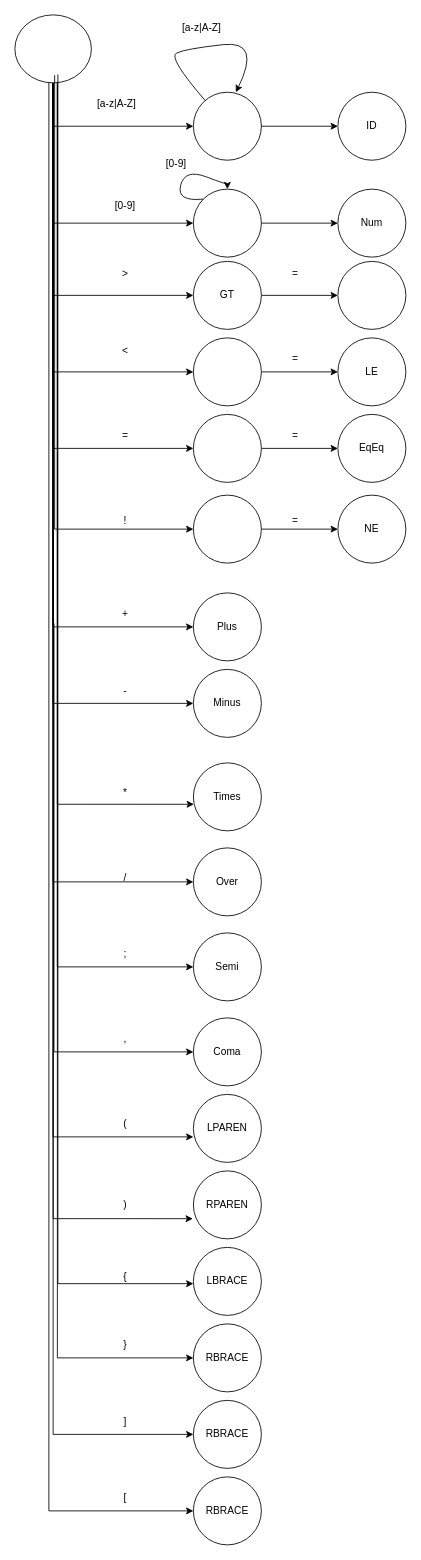
Some shapes in this 421 by 1560 pixel diagram are drawn without their labels. The shapes that lost their labels are listed below. From the top down, each one's centre as x and y in pixels, then its label:
At point (371, 295): "GE".
At point (227, 371): "LT".
At point (227, 448): "Eq".
At point (227, 528): "Error".
